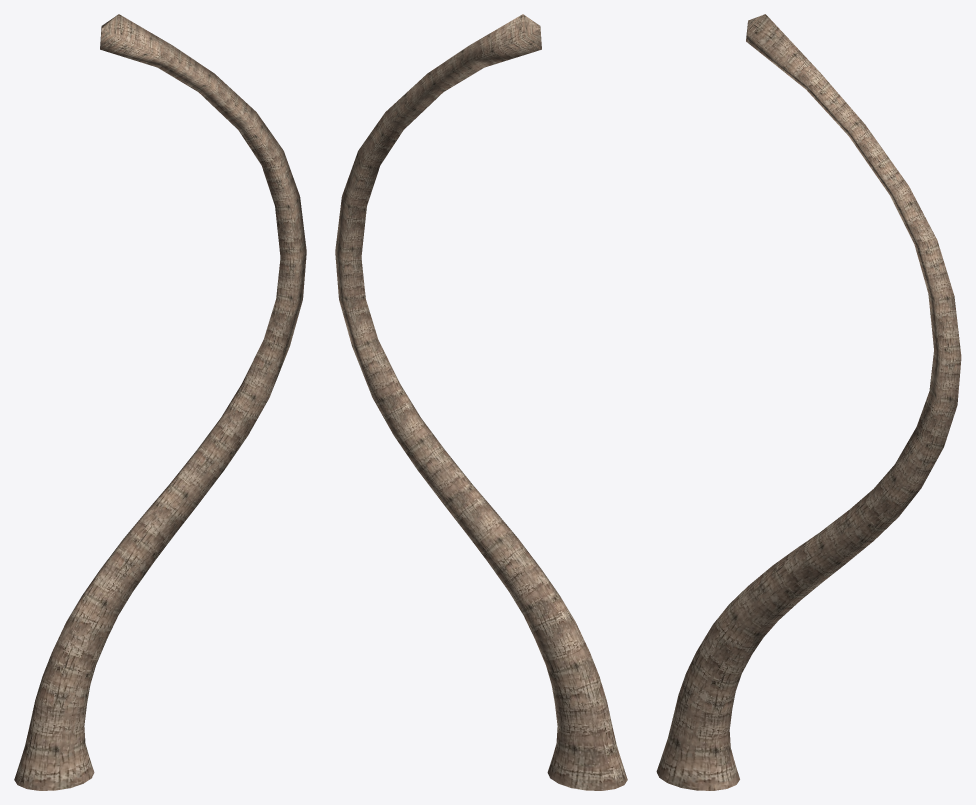
File: m_palm_p2_13_trunk_0.001_lev2.glb
3 views of the same model, side by side, from view 1: azimuth 30°, elevation 25°; view 2: azimuth 150°, elevation 25°; view 3: azimuth 330°, elevation 25° (orthographic). The views are drawn at different scales.
Visible parts, largest first — view 1: m_palm_p2_13_trunk_0.001_lev2; view 2: m_palm_p2_13_trunk_0.001_lev2; view 3: m_palm_p2_13_trunk_0.001_lev2.
Boxes of the visible parts, x1=… form: m_palm_p2_13_trunk_0.001_lev2: x1=14, y1=14, x2=306, y2=790; m_palm_p2_13_trunk_0.001_lev2: x1=335, y1=14, x2=627, y2=790; m_palm_p2_13_trunk_0.001_lev2: x1=656, y1=14, x2=961, y2=790.
Bounding box in the file's own units: 1.75 × 4.31 × 0.3401.
Materials: 1 (1 with a texture image).
